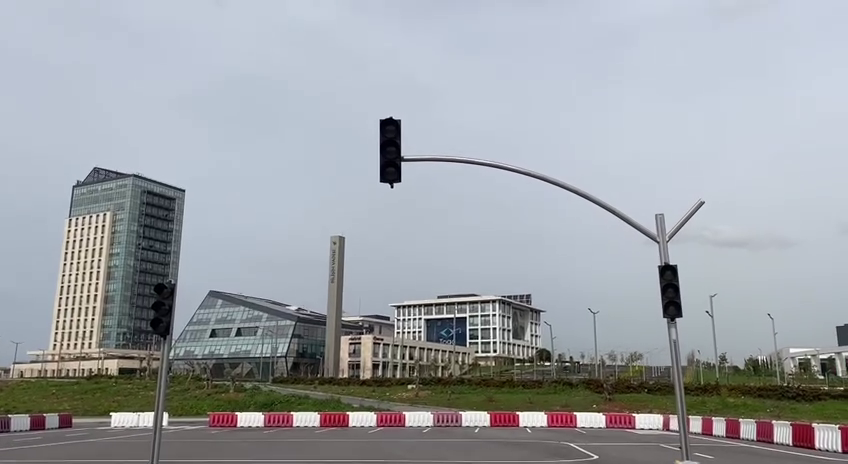trafficLight: (372, 112, 409, 193), (147, 276, 180, 343), (654, 259, 686, 324)
